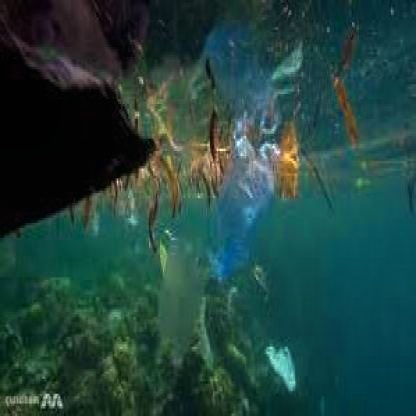pbag: (160, 141, 280, 367)
